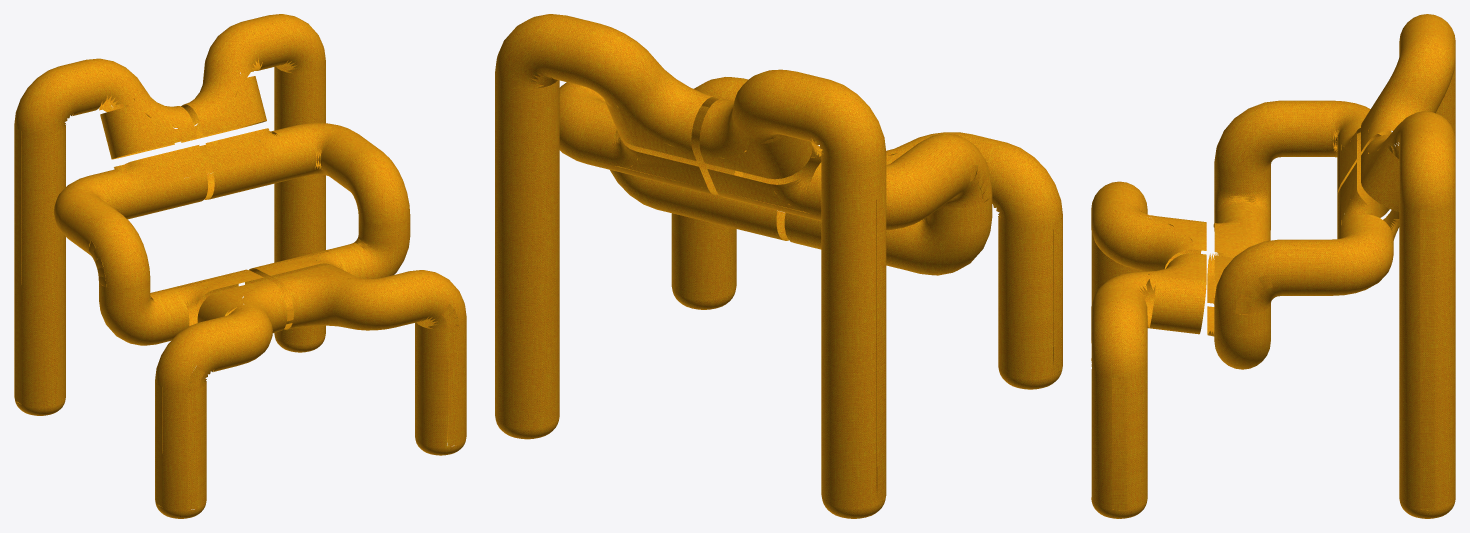
File: ekstrem-v25.glb
3 renders of one model, left to right at view 1: azimuth 30°, elevation 25°; view 2: azimuth 150°, elevation 25°; view 3: azimuth 270°, elevation 25°, orthographic. The views are drawn at different scales.
Parts seen in each view (by area): view 1: Ekstrem, Ekstrem.001; view 2: Ekstrem, Ekstrem.001; view 3: Ekstrem.001, Ekstrem.
Part boxes in pixels (bbox=[...]): Ekstrem: bbox=[14, 58, 287, 518]; Ekstrem.001: bbox=[178, 14, 466, 455]; Ekstrem: bbox=[699, 69, 1062, 518]; Ekstrem.001: bbox=[495, 14, 822, 439]; Ekstrem.001: bbox=[1091, 111, 1455, 518]; Ekstrem: bbox=[1091, 14, 1455, 360].
Bounding box in the file's own units: 0.7498 × 0.7898 × 0.7098.
1 material, 1 textured.
